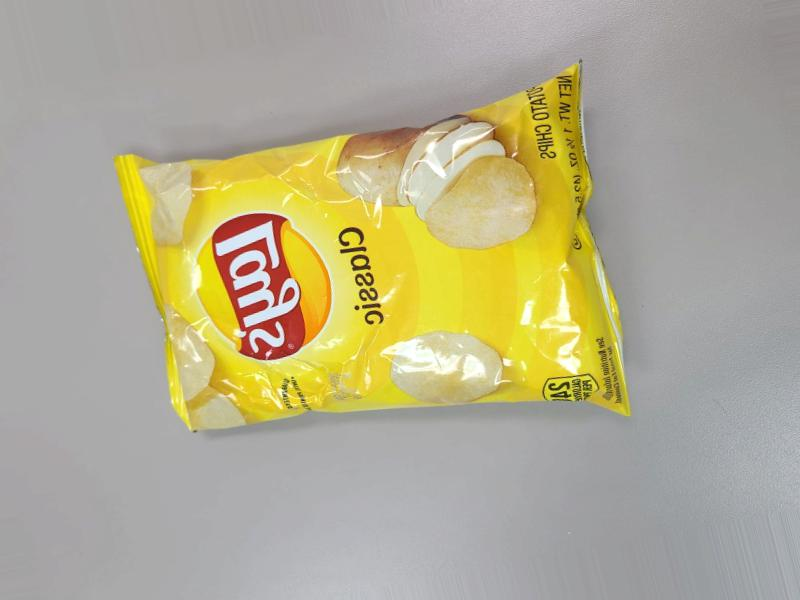lays: (180, 63, 619, 362)
